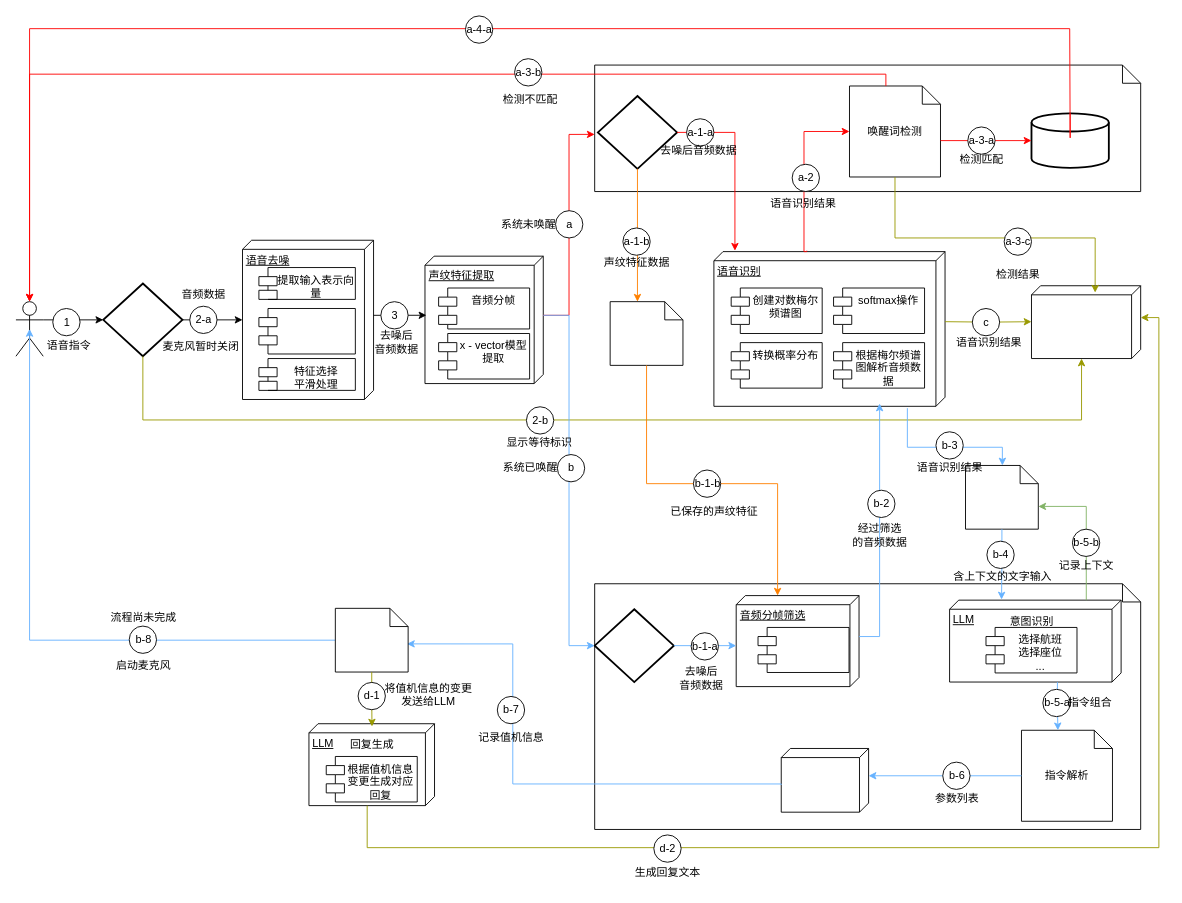
Some shapes in this 1182 by 903 pixel diagram are drawn without their labels. Each missing label, with the centre of its shape:
上下文: the point at 1001,497
值机信息: the point at 371,639
后端API: the point at 824,780
唤醒系统: the point at 1069,140
声纹特征保存: the point at 646,333
已唤醒设备时: the point at 633,645
旅客: the point at 29,328
未唤醒设备时: the point at 637,132
根据每帧余弦相似度比对筛选目标音频: the point at 803,649
用户界面: the point at 1086,322
线性变换 计算注意力分数 多头分割: the point at 306,331
麦克风设备: the point at 142,319
